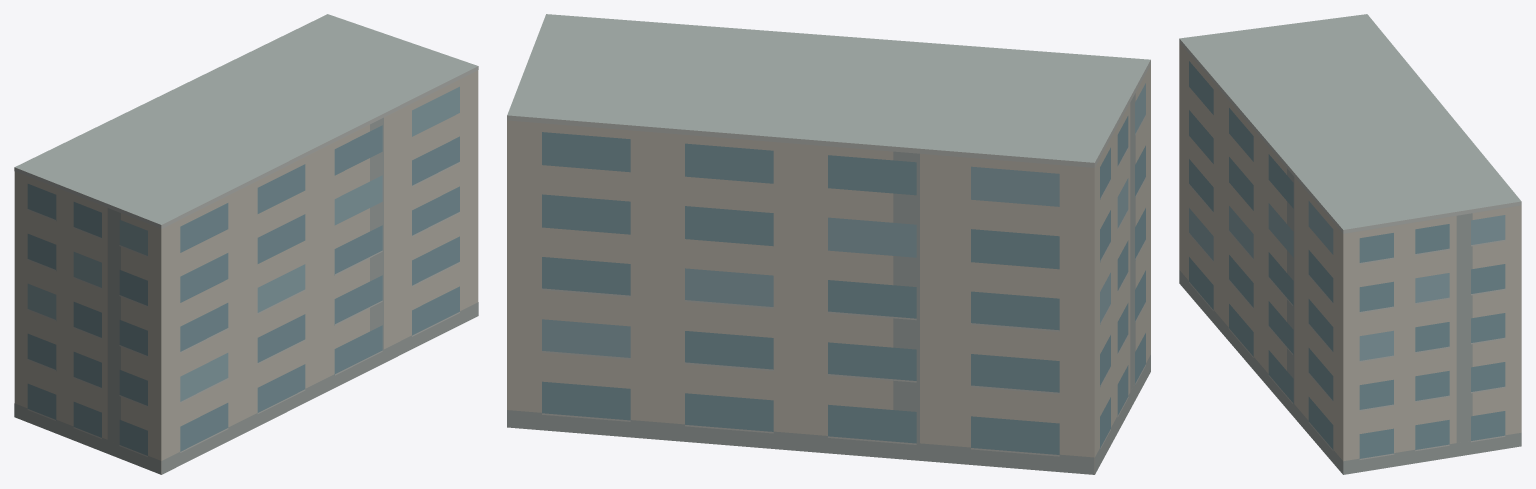
The model's file is residential-38f039af-860c-4953-a643-4eea766465f3.glb.
The picture shows the model from 3 angles, left to right: view 1: azimuth 30°, elevation 25°; view 2: azimuth 150°, elevation 25°; view 3: azimuth 270°, elevation 25°; orthographic projection. The views are drawn at different scales.
Visible parts, largest first — view 1: residential-38f039af-860c-4953-a643-4eea766465f3.tmp; view 2: residential-38f039af-860c-4953-a643-4eea766465f3.tmp; view 3: residential-38f039af-860c-4953-a643-4eea766465f3.tmp.
Part boxes in pixels (box(x1,y1,x2,y2)): residential-38f039af-860c-4953-a643-4eea766465f3.tmp: box(14, 14, 478, 474); residential-38f039af-860c-4953-a643-4eea766465f3.tmp: box(507, 14, 1150, 474); residential-38f039af-860c-4953-a643-4eea766465f3.tmp: box(1179, 14, 1521, 474).
Size of the model in its own units: 28.85 by 15.25 by 19.33.
